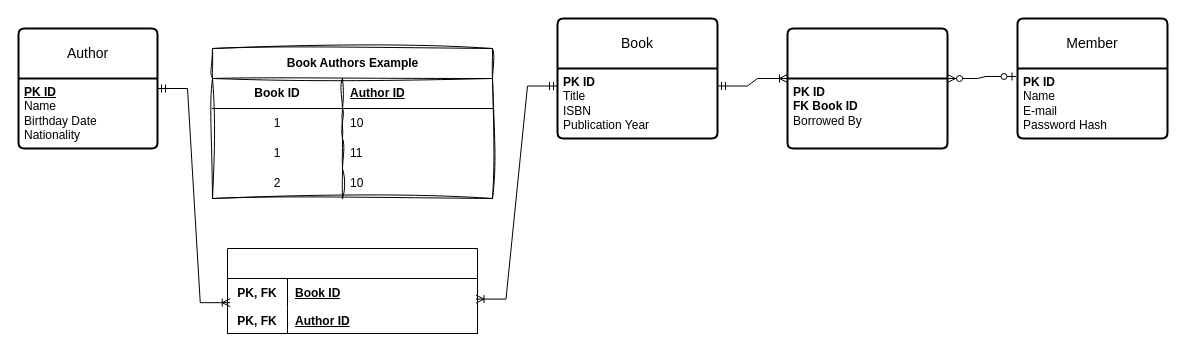
Image size: 1185x351. Some labels were removed from this diagram. The box of each missing label's shape, as (x1, y1, x2, y2) in pixels:
Book Authors: (226, 248, 478, 334)
Copy: (786, 27, 948, 149)
